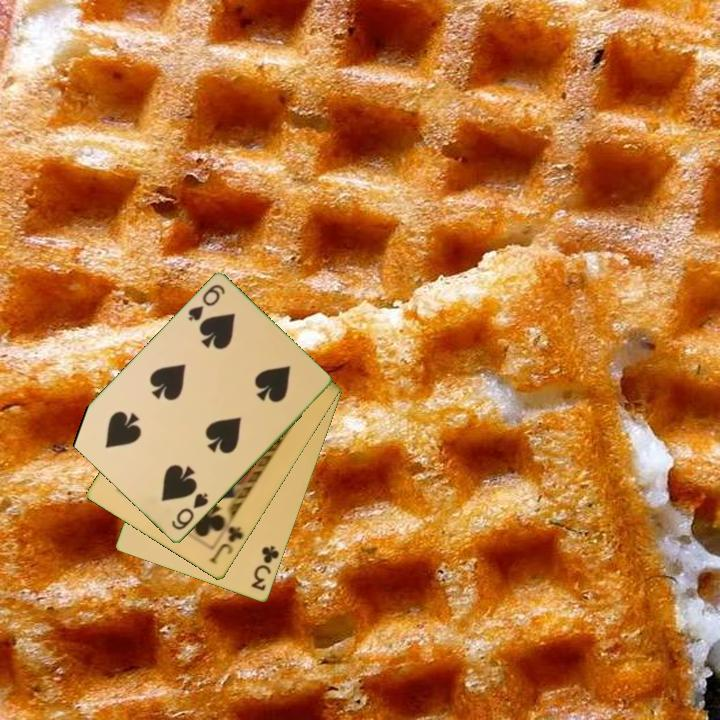3c: (247, 542, 282, 594)
6s: (168, 489, 211, 534), (185, 281, 228, 324)
Jc: (207, 523, 246, 567)
